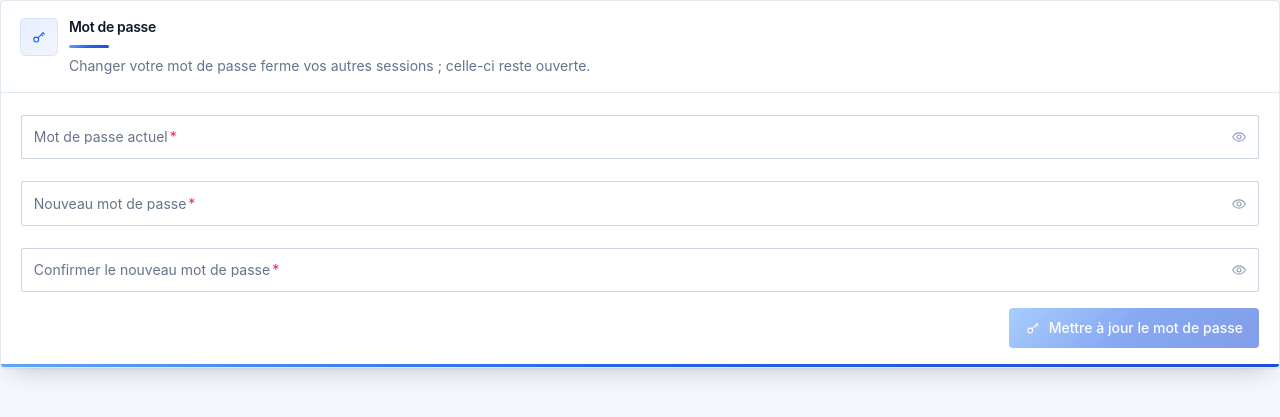
Test: PasswordCard › bloque l'envoi tant que la confirmation diffère
This screenshot has width=1280, height=417.
Type "ancien-mot-de-passe" into the password field labelled "Mot de passe actuel*".
click(640, 137); type("ancien-mot-de-passe")  # box [21, 115, 1259, 159]
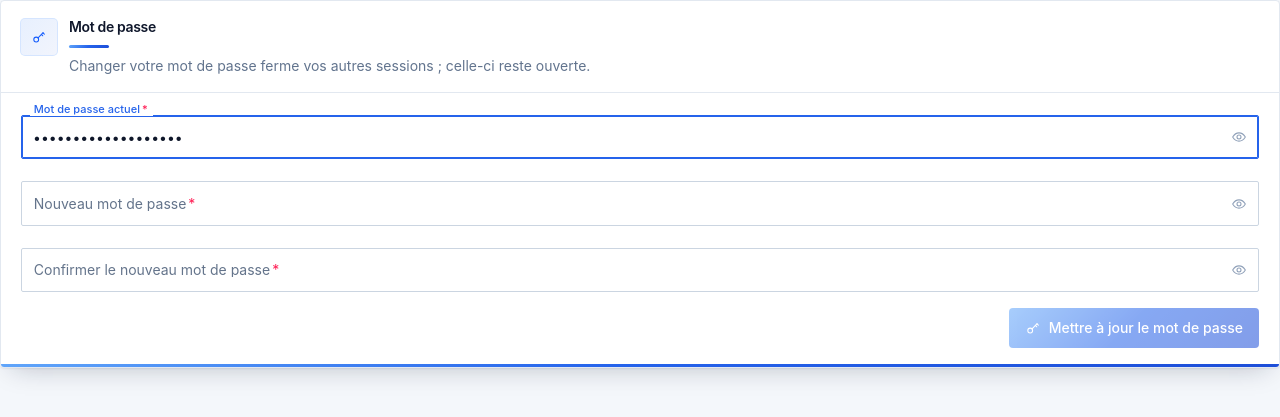
Type "nouveau-mot-de-passe" into the password field labelled "Nouveau mot de passe*".
click(640, 204); type("nouveau-mot-de-passe")  # box [21, 182, 1259, 226]
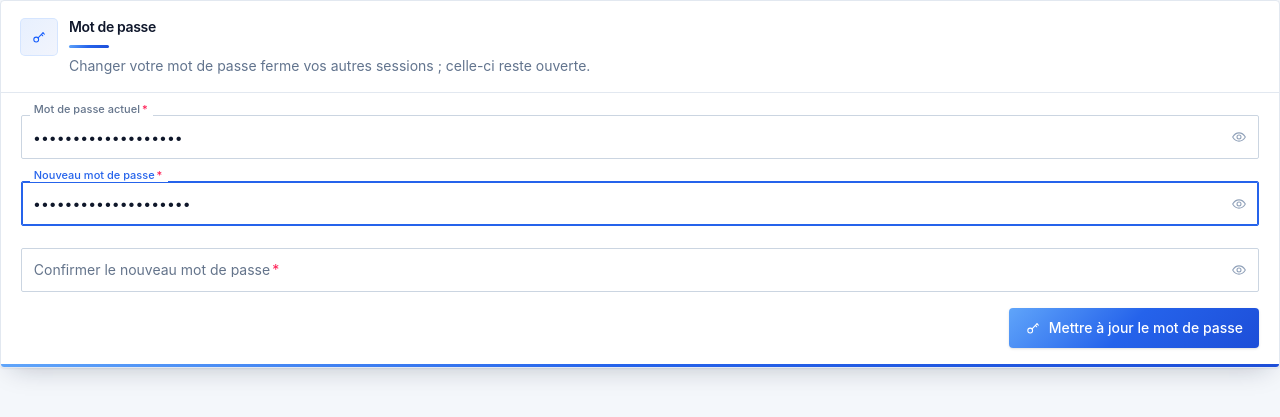
Type "pas-la-meme-chose" into the password field labelled "Confirmer le nouveau mot de passe*".
click(640, 270); type("pas-la-meme-chose")  # box [21, 248, 1259, 292]
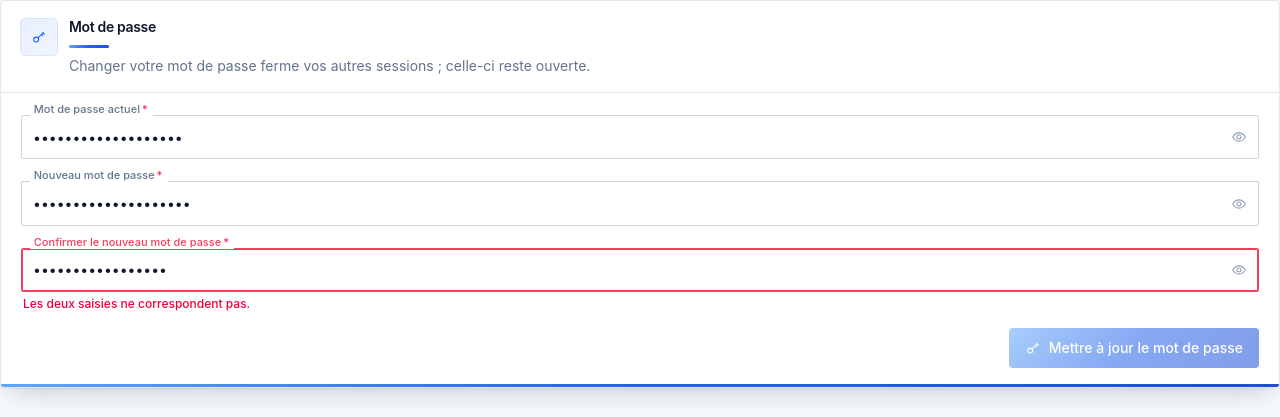
Result: the button "Mettre à jour le mot de passe" is disabled at [1009, 328, 1259, 368]
Result: the text "Les deux saisies ne correspondent pas." is shown at [23, 296, 250, 311]
